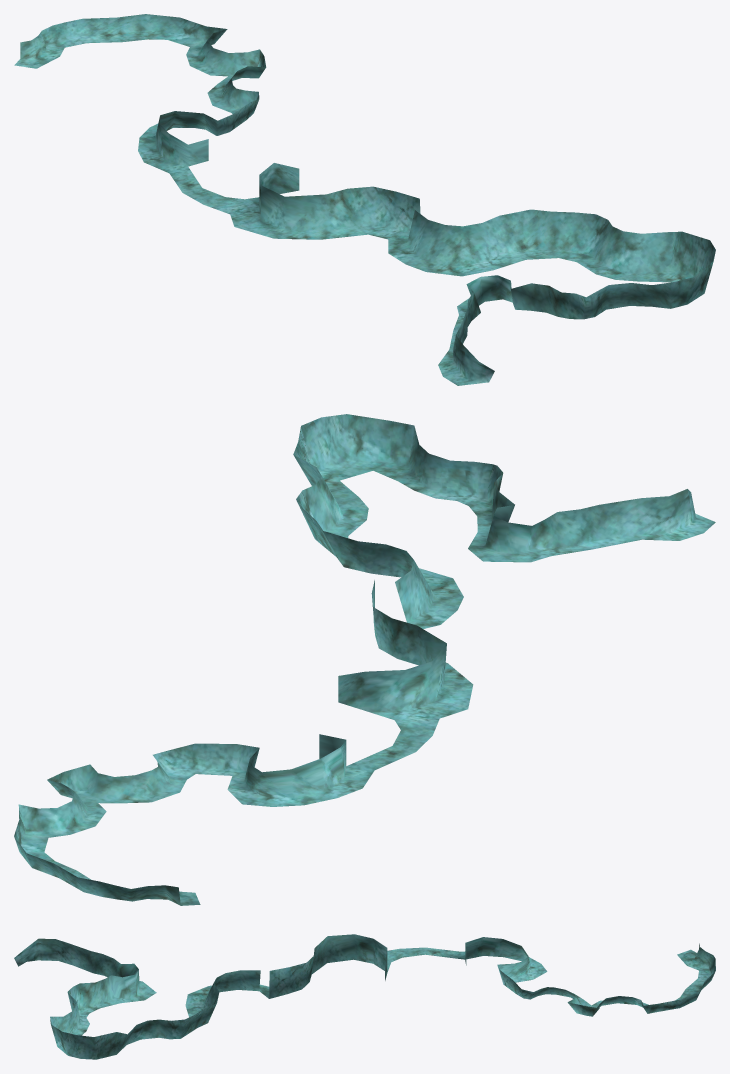
Rendered from EKH_GROTTO_PS_GR_OBJECT30.fbx.
The picture shows the model from 3 angles, top to bottom: view 1: azimuth 30°, elevation 25°; view 2: azimuth 150°, elevation 25°; view 3: azimuth 270°, elevation 25°; orthographic projection. The views are drawn at different scales.
Visible parts, largest first — view 1: EKH_GROTTO_PS_GR_OBJECT30; view 2: EKH_GROTTO_PS_GR_OBJECT30; view 3: EKH_GROTTO_PS_GR_OBJECT30.
Part boxes in pixels (x1,y1,x2,y2): EKH_GROTTO_PS_GR_OBJECT30: (14, 14, 715, 385); EKH_GROTTO_PS_GR_OBJECT30: (14, 414, 715, 905); EKH_GROTTO_PS_GR_OBJECT30: (14, 934, 715, 1059).
Bounding box in the file's own units: 154231 × 19291 × 393149.
1 material, 1 textured.
